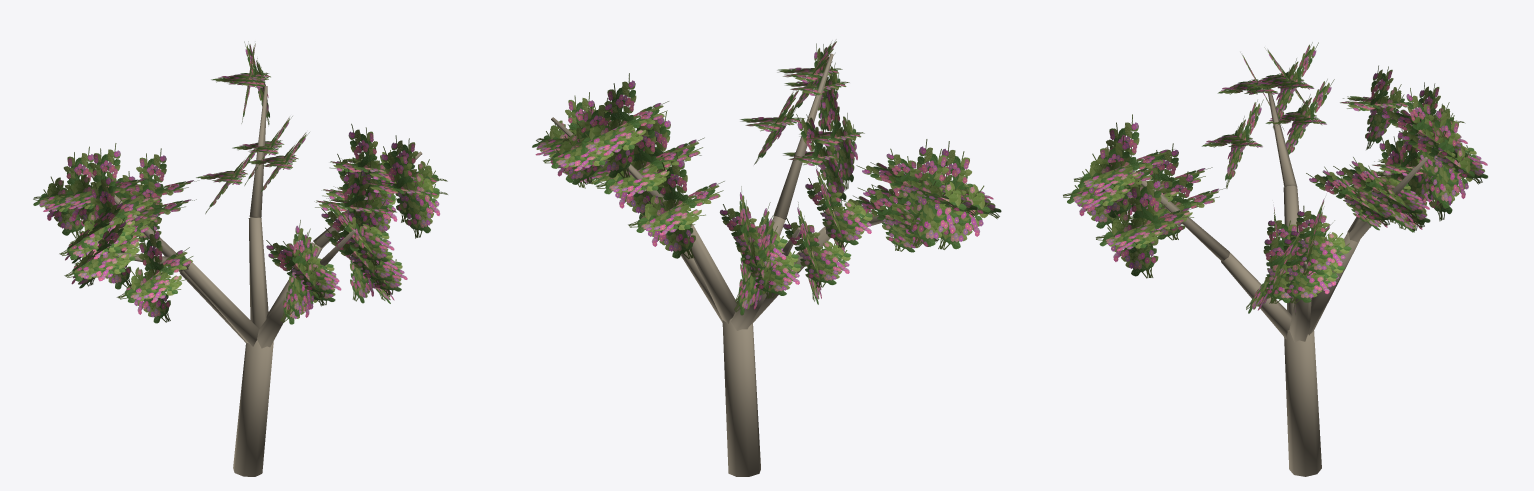
The model's file is orchid-tree-lod.glb.
The picture shows the model from 3 angles, left to right: view 1: azimuth 30°, elevation 25°; view 2: azimuth 150°, elevation 25°; view 3: azimuth 270°, elevation 25°; orthographic projection. The views are drawn at different scales.
Parts seen in each view (by area): view 1: orchid-tree-lod_landscape_foliage, orchid-tree-lod_landscape_bark; view 2: orchid-tree-lod_landscape_foliage, orchid-tree-lod_landscape_bark; view 3: orchid-tree-lod_landscape_foliage, orchid-tree-lod_landscape_bark.
Part boxes in pixels (bbox=[...]): orchid-tree-lod_landscape_foliage: bbox=[33, 41, 447, 324]; orchid-tree-lod_landscape_bark: bbox=[91, 86, 422, 476]; orchid-tree-lod_landscape_foliage: bbox=[532, 39, 1001, 315]; orchid-tree-lod_landscape_bark: bbox=[551, 53, 910, 476]; orchid-tree-lod_landscape_foliage: bbox=[1063, 42, 1487, 314]; orchid-tree-lod_landscape_bark: bbox=[1105, 87, 1428, 476].
Bounding box in the file's own units: 7.57 × 6.8 × 6.79.
2 materials, 1 textured.
